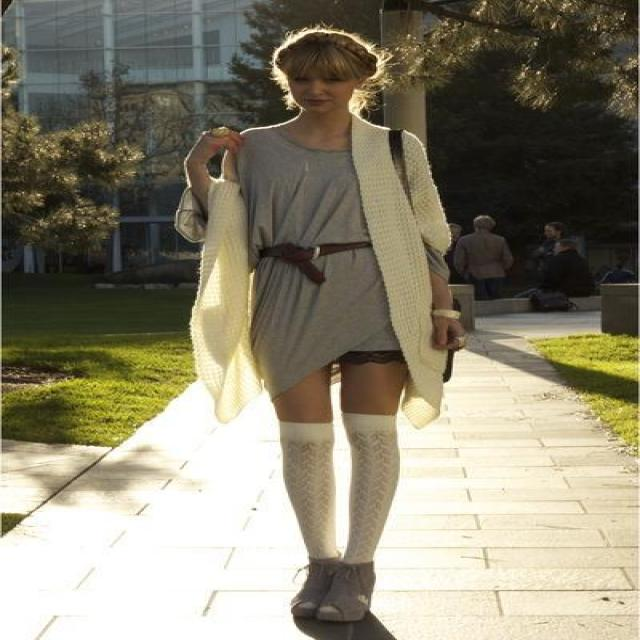dress: (220, 122, 398, 370)
jacket: (184, 115, 451, 416)
shoe: (292, 556, 374, 618)
